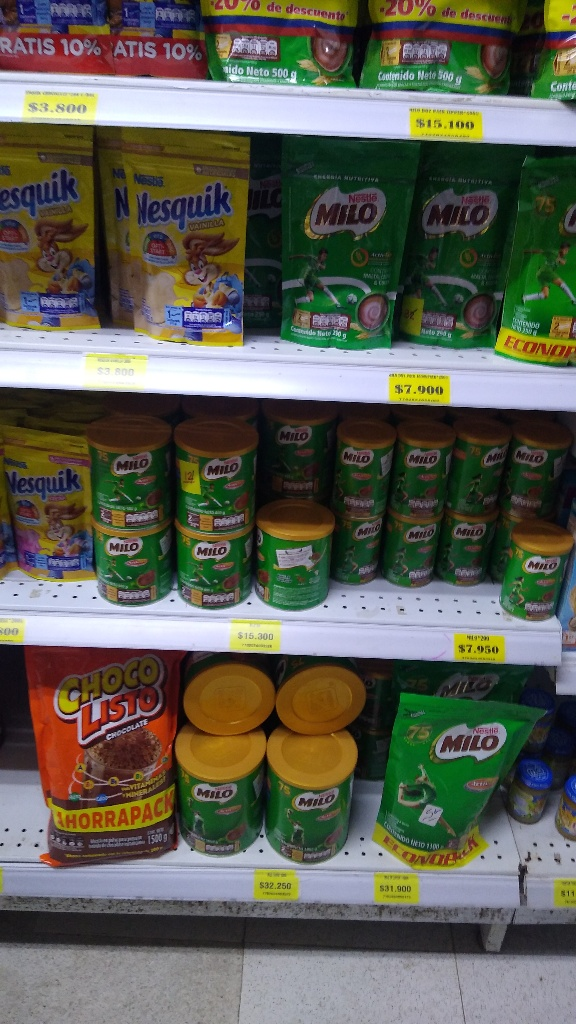COL0170103DYP1,500: (24, 654, 179, 863)
COL0170203DYP25000: (265, 138, 397, 352)
COL0170203LAT20000: (335, 422, 390, 512)
COL0170203LAT40000: (249, 514, 333, 613)
COL0170305DYP20000: (1, 417, 92, 583)
COL0170306DYP20000: (2, 124, 101, 335)
